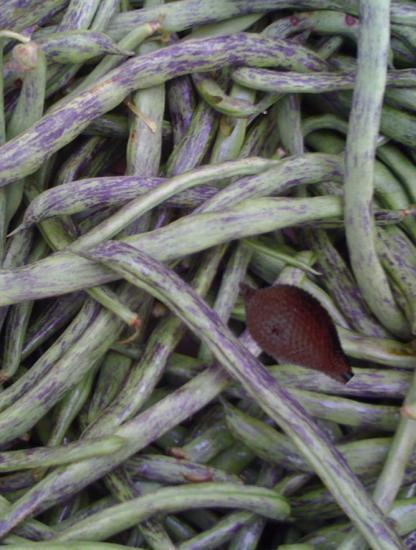Salak: (221, 256, 370, 405)
